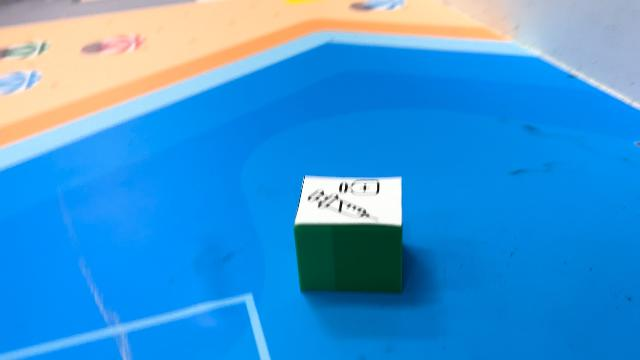syringe: (293, 175, 403, 294)
